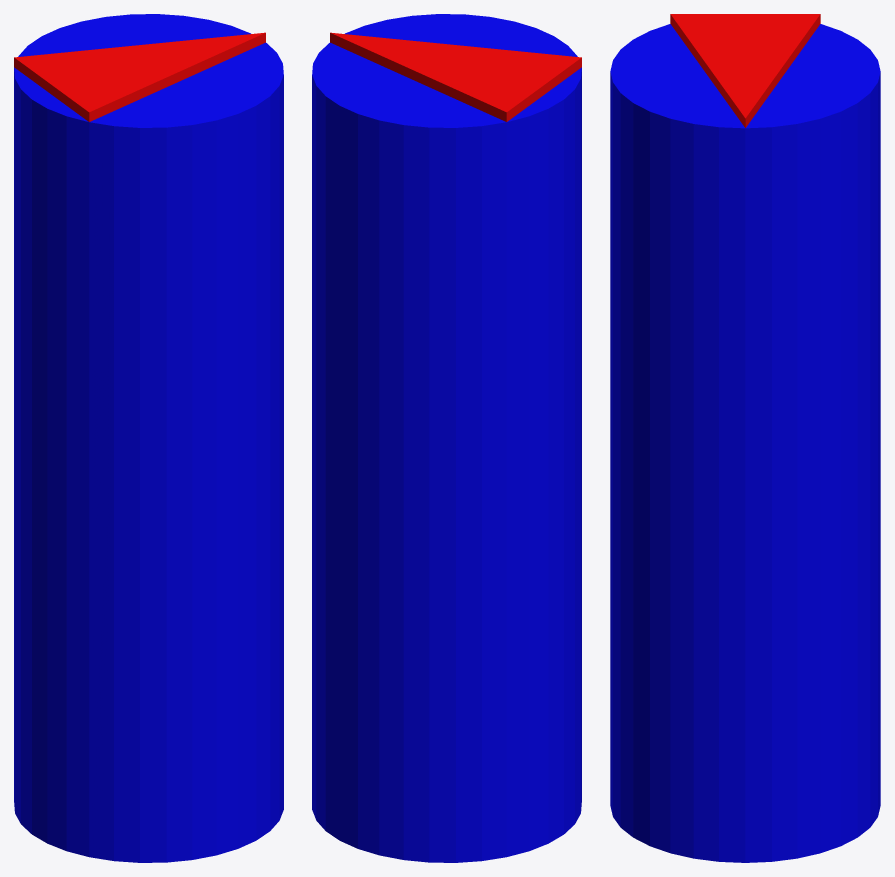
Rendered from player.glb.
3 views of the same model, side by side, from view 1: azimuth 30°, elevation 25°; view 2: azimuth 150°, elevation 25°; view 3: azimuth 270°, elevation 25° (orthographic).
Visible parts, largest first — view 1: Cylinder; view 2: Cylinder; view 3: Cylinder.
Boxes of the visible parts, x1,y1,x2,y2 form: Cylinder: (14,14,283,862); Cylinder: (312,14,581,862); Cylinder: (610,14,880,862).
Size of the model in its own units: 0.5 by 1.52 by 0.5.
